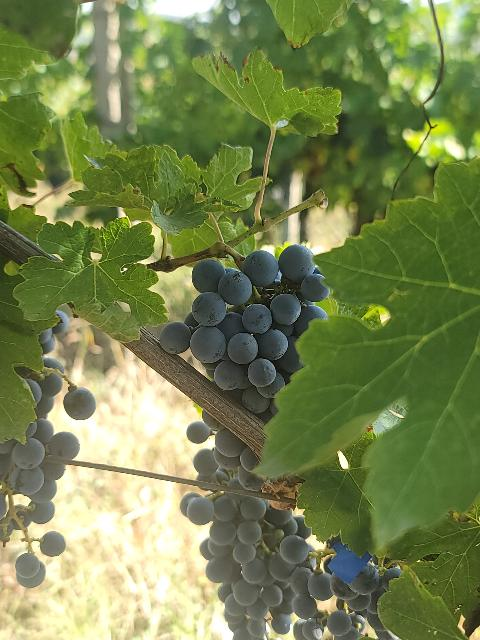grapes: (160, 245, 330, 422), (0, 356, 96, 588), (181, 491, 305, 640), (188, 411, 264, 491)
